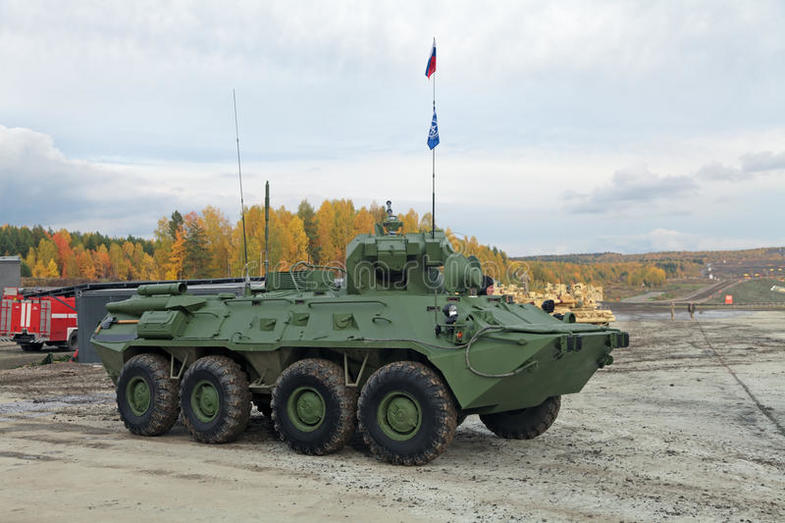btr: (99, 256, 626, 464)
